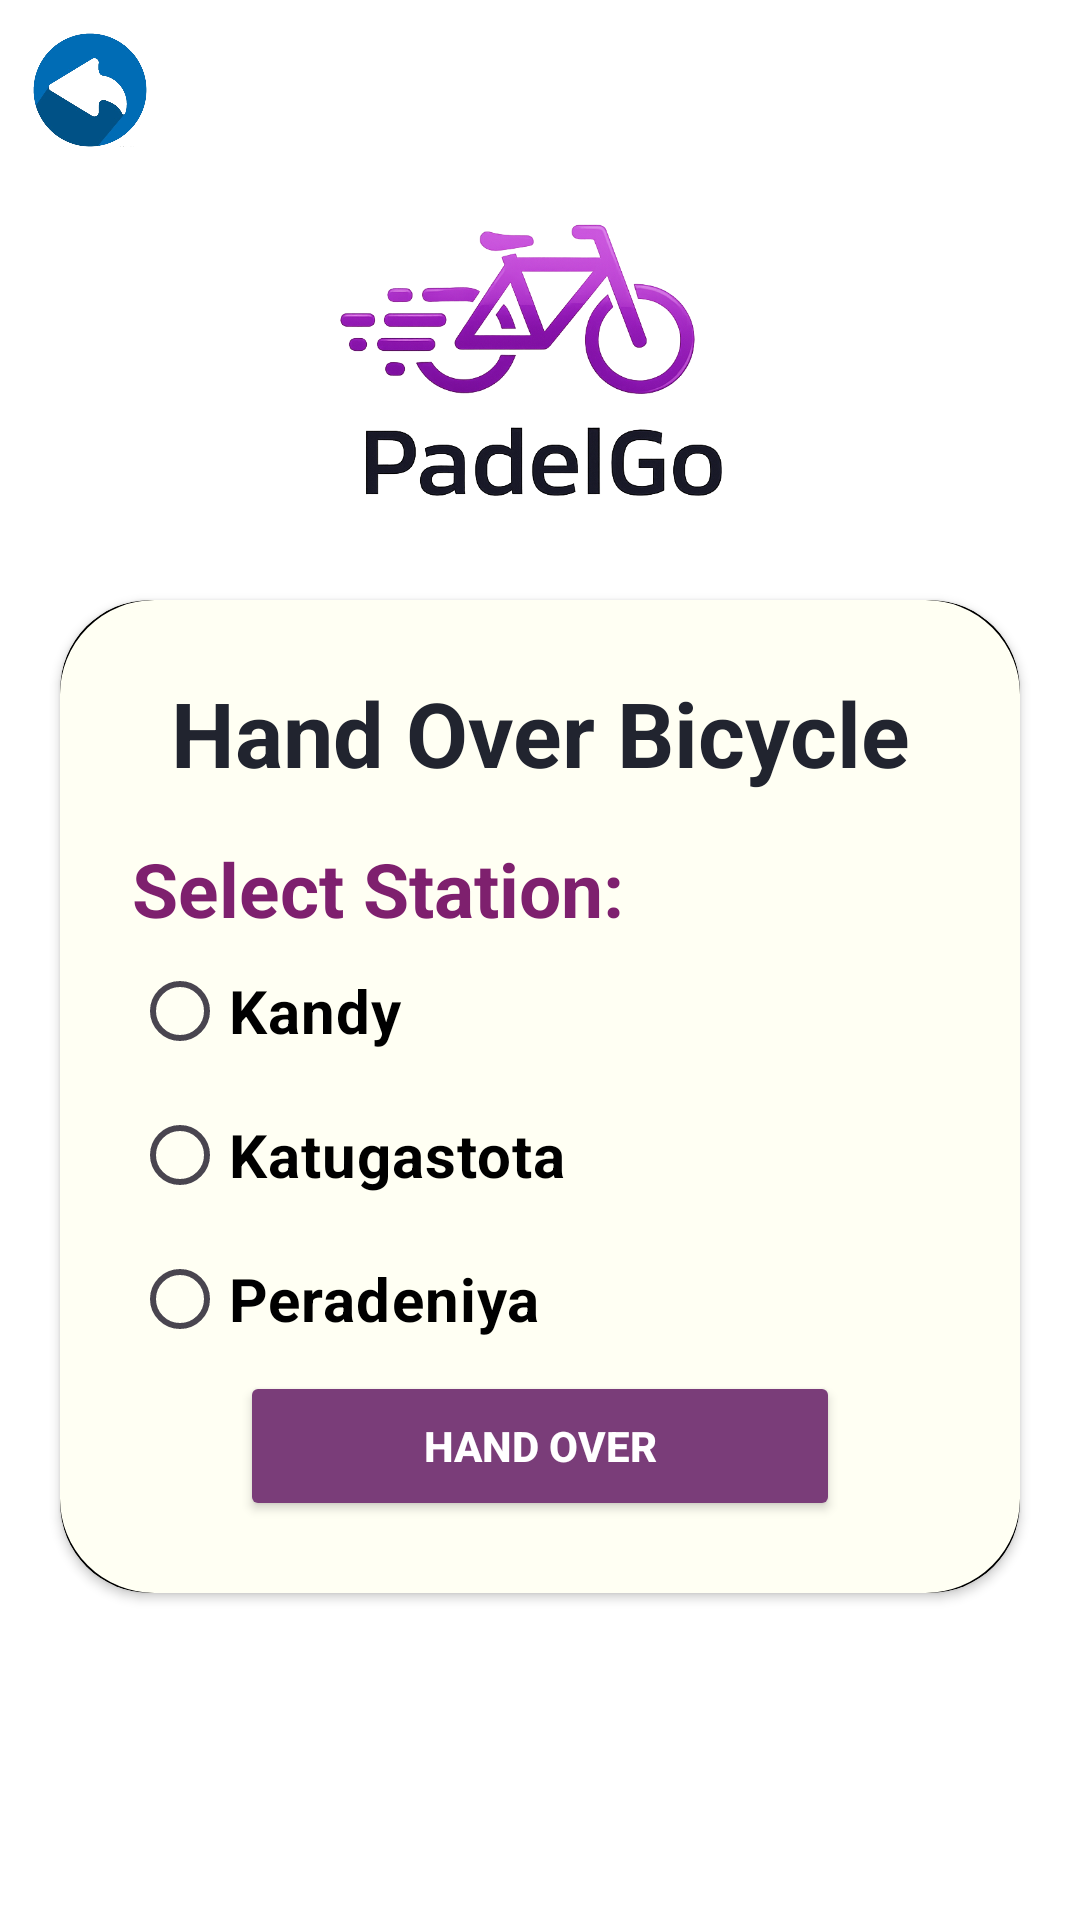

Screen size 1080x1920. Icon name, then its center in pixels as (x=x, y=y):
backbutton: (x=90, y=90)
